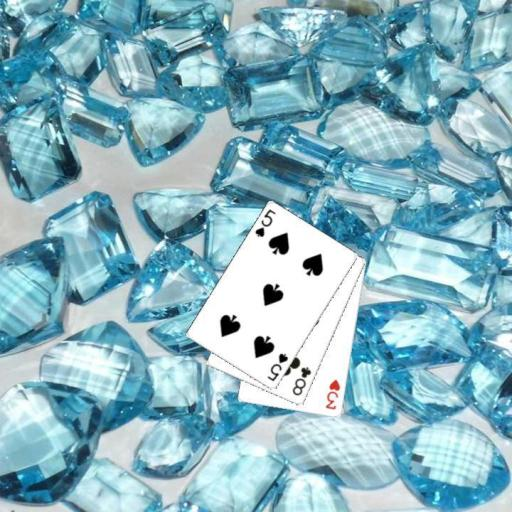3H: (322, 376, 341, 411)
5S: (252, 206, 277, 239), (264, 351, 289, 383)
8C: (289, 364, 313, 398)
